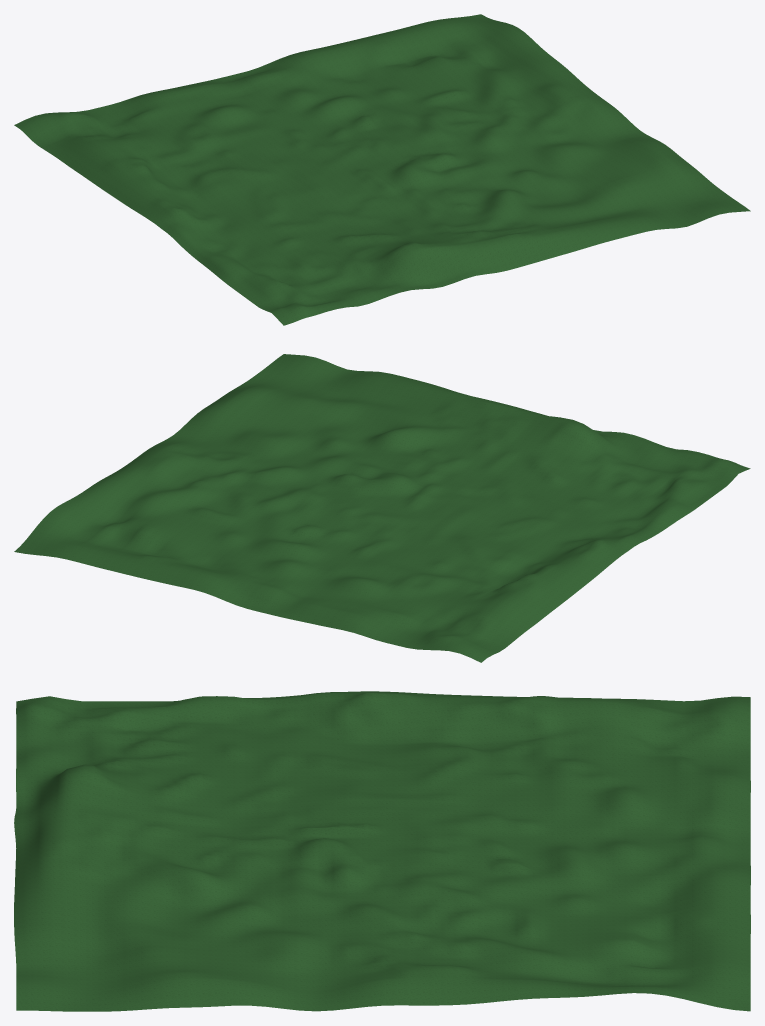
The model's file is terrain.glb.
3 renders of one model, top to bottom at view 1: azimuth 30°, elevation 25°; view 2: azimuth 150°, elevation 25°; view 3: azimuth 270°, elevation 25°, orthographic. The views are drawn at different scales.
Visible parts, largest first — view 1: Plane.001; view 2: Plane.001; view 3: Plane.001.
Boxes of the visible parts, bbox=[...] form: Plane.001: bbox=[14, 14, 750, 325]; Plane.001: bbox=[14, 354, 750, 662]; Plane.001: bbox=[14, 691, 750, 1011].
Bounding box in the file's own units: 501 × 25.61 × 502.
Materials: 1 (1 with a texture image).
